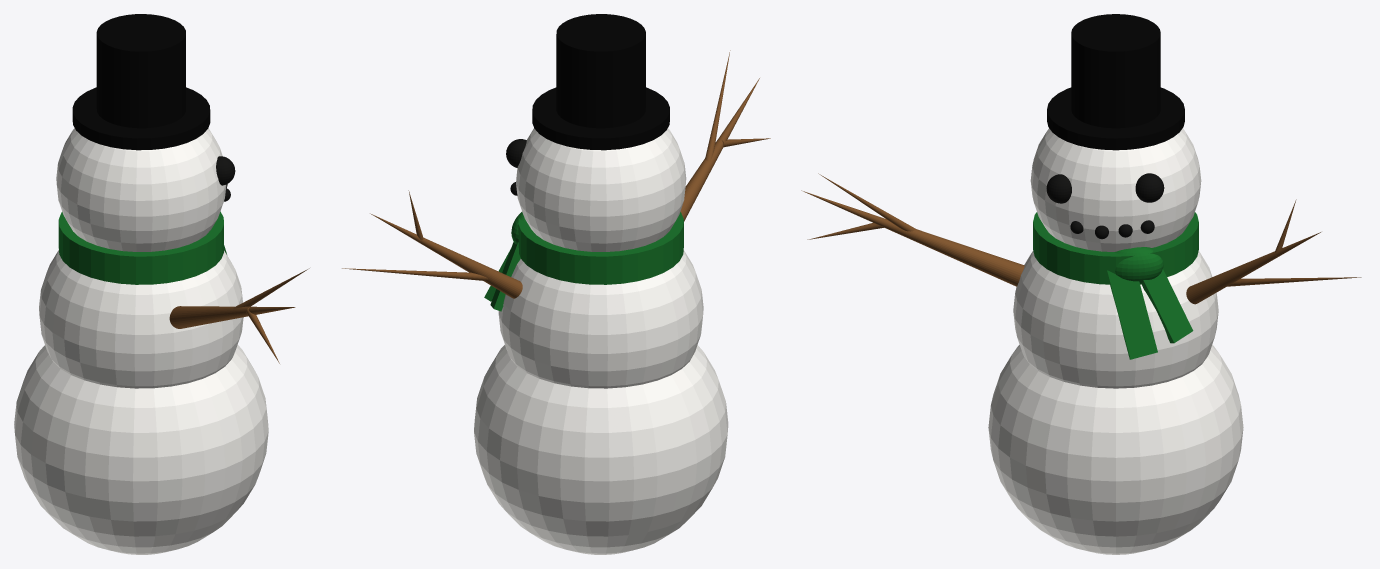
The model's file is SnowMan.dae.
3 views of the same model, side by side, from view 1: azimuth 30°, elevation 25°; view 2: azimuth 150°, elevation 25°; view 3: azimuth 270°, elevation 25° (orthographic).
Visible parts, largest first — view 1: Sphere, Sphere.001, Sphere.003, Cylinder.002, Cylinder, Cylinder.001, Cone.007, Sphere.004; view 2: Sphere, Sphere.001, Sphere.003, Cylinder.002, Cylinder, Cylinder.001, Cone, Cone.007, Cone.002, Cube; view 3: Sphere, Sphere.001, Sphere.003, Cylinder.002, Cylinder, Cylinder.001, Cone.007, Cube.001, Cube, Cone, Sphere.010, Sphere.005.
Boxes of the visible parts, x1,y1,x2,y2 form: Sphere: (14, 345, 268, 554); Sphere.001: (39, 250, 243, 388); Sphere.003: (56, 128, 226, 251); Cylinder.002: (96, 14, 185, 128); Cylinder: (58, 211, 223, 284); Cylinder.001: (72, 87, 210, 150); Cone.007: (169, 306, 295, 328); Sphere.004: (216, 156, 235, 185); Sphere: (474, 345, 728, 554); Sphere.001: (498, 250, 703, 388); Sphere.003: (516, 128, 686, 251); Cylinder.002: (556, 14, 645, 128); Cylinder: (518, 212, 683, 284); Cylinder.001: (532, 87, 669, 150); Cone: (370, 213, 522, 298); Cone.007: (680, 78, 759, 221); Cone.002: (342, 268, 488, 280); Cube: (490, 242, 520, 311); Sphere: (988, 345, 1243, 554); Sphere.001: (1013, 251, 1218, 388); Sphere.003: (1030, 128, 1201, 251); Cylinder.002: (1071, 14, 1160, 128); Cylinder: (1033, 212, 1198, 284); Cylinder.001: (1047, 87, 1184, 150); Cone.007: (801, 190, 1024, 286); Cube.001: (1107, 270, 1157, 359); Cube: (1141, 269, 1193, 343); Cone: (1186, 232, 1320, 304); Sphere.010: (1114, 247, 1163, 284); Sphere.005: (1135, 173, 1164, 202).
Bounding box in the file's own units: 2.24 × 4.43 × 4.41.
